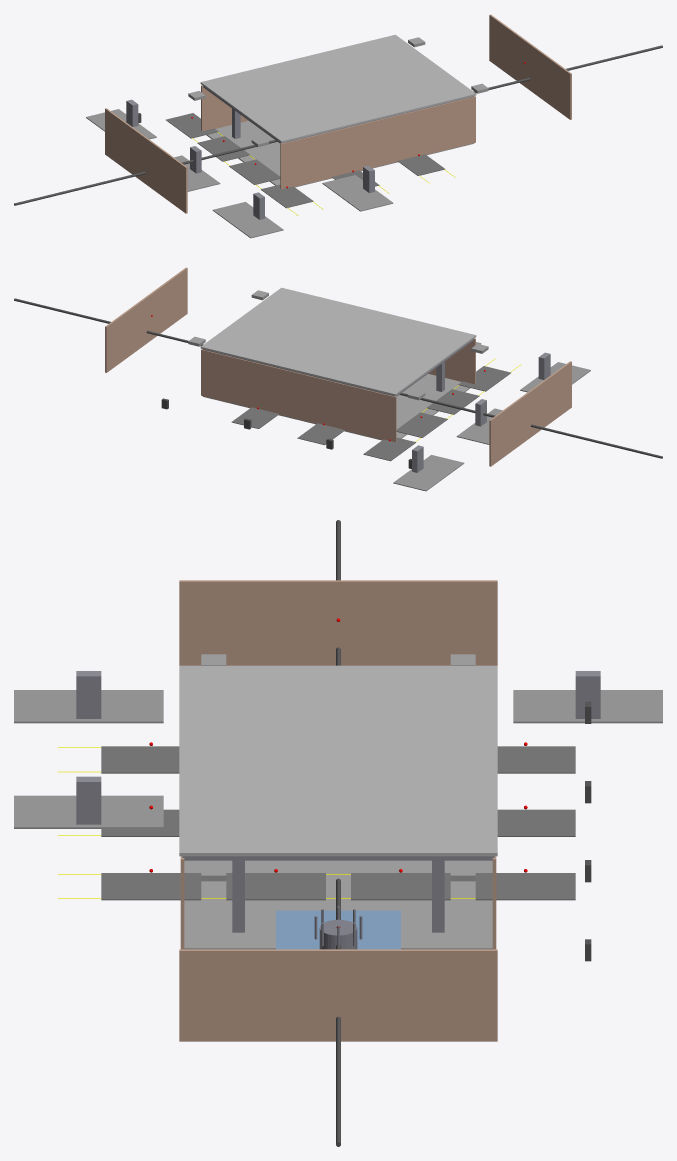
The model's file is enhanced_barn_model.glb.
The picture shows the model from 3 angles, top to bottom: view 1: azimuth 30°, elevation 25°; view 2: azimuth 150°, elevation 25°; view 3: azimuth 270°, elevation 25°; orthographic projection. The views are drawn at different scales.
Parts seen in each view (by area): view 1: Roof, Wall_Front, Wall_Left, Wall_Right, Floor, Maintenance_Bay_1, Maintenance_Bay_4, Wall_Back, Parking_Slot_0_1, Parking_Slot_0_0, Parking_Slot_0_2, Main_Conduit_Left (+6 smaller); view 2: Roof, Wall_Back, Wall_Left, Wall_Right, Floor, Maintenance_Bay_3, Wall_Front, Parking_Slot_0_2, Parking_Slot_0_3, Parking_Slot_0_1, Main_Conduit_Left, Parking_Slot_0_0 (+6 smaller); view 3: Roof, Wall_Right, Wall_Left, Floor, Maintenance_Bay_1, Maintenance_Bay_3, Maintenance_Bay_4, Consolidation_Zone, Parking_Slot_2_0, Parking_Slot_2_3, Parking_Slot_2_1, Parking_Slot_2_2 (+11 smaller).
Boxes of the visible parts, x1,y1,x2,y2 form: Roof: (200, 34, 476, 142); Wall_Front: (280, 96, 475, 189); Wall_Left: (105, 108, 187, 213); Wall_Right: (489, 14, 571, 119); Floor: (206, 121, 474, 187); Maintenance_Bay_1: (212, 202, 283, 238); Maintenance_Bay_4: (322, 175, 393, 211); Wall_Back: (201, 85, 248, 131); Parking_Slot_0_1: (229, 159, 280, 184); Parking_Slot_0_0: (261, 184, 313, 208); Parking_Slot_0_2: (197, 136, 249, 161); Main_Conduit_Left: (14, 140, 277, 205); Roof: (200, 287, 476, 395); Wall_Back: (201, 349, 396, 442); Wall_Left: (489, 361, 571, 466); Wall_Right: (105, 267, 187, 372); Floor: (202, 374, 470, 440); Maintenance_Bay_3: (393, 455, 464, 491); Wall_Front: (428, 338, 475, 384); Parking_Slot_0_2: (396, 412, 447, 437); Parking_Slot_0_3: (363, 437, 415, 461); Parking_Slot_0_1: (427, 389, 479, 414); Main_Conduit_Left: (399, 393, 662, 458); Parking_Slot_0_0: (458, 366, 510, 391); Roof: (179, 665, 497, 856); Wall_Right: (179, 949, 497, 1041); Wall_Left: (179, 580, 497, 665); Floor: (184, 860, 492, 949); Maintenance_Bay_1: (14, 690, 163, 723); Maintenance_Bay_3: (513, 690, 662, 723); Maintenance_Bay_4: (14, 795, 163, 828); Consolidation_Zone: (276, 910, 400, 949); Parking_Slot_2_0: (101, 873, 201, 900); Parking_Slot_2_3: (475, 873, 575, 900); Parking_Slot_2_1: (226, 873, 325, 900); Parking_Slot_2_2: (351, 873, 450, 900).
Size of the model in its own units: 118 by 8.75 by 52.
